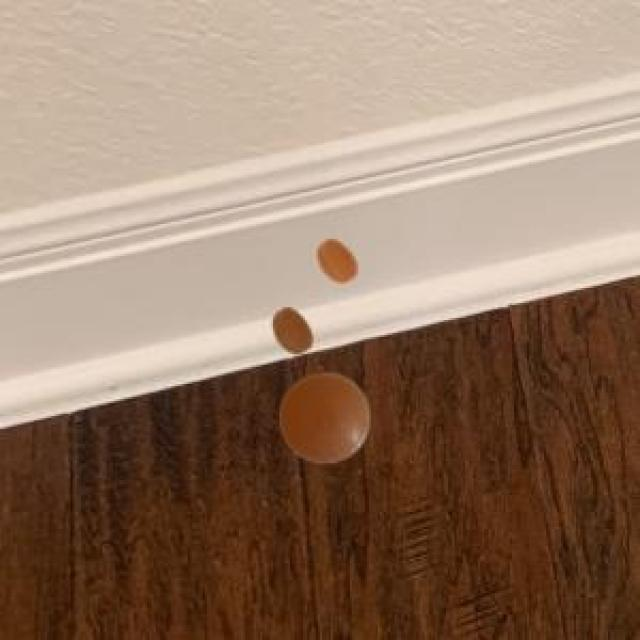Bactidol: (265, 367, 377, 473), (313, 221, 364, 294), (260, 298, 322, 356)
